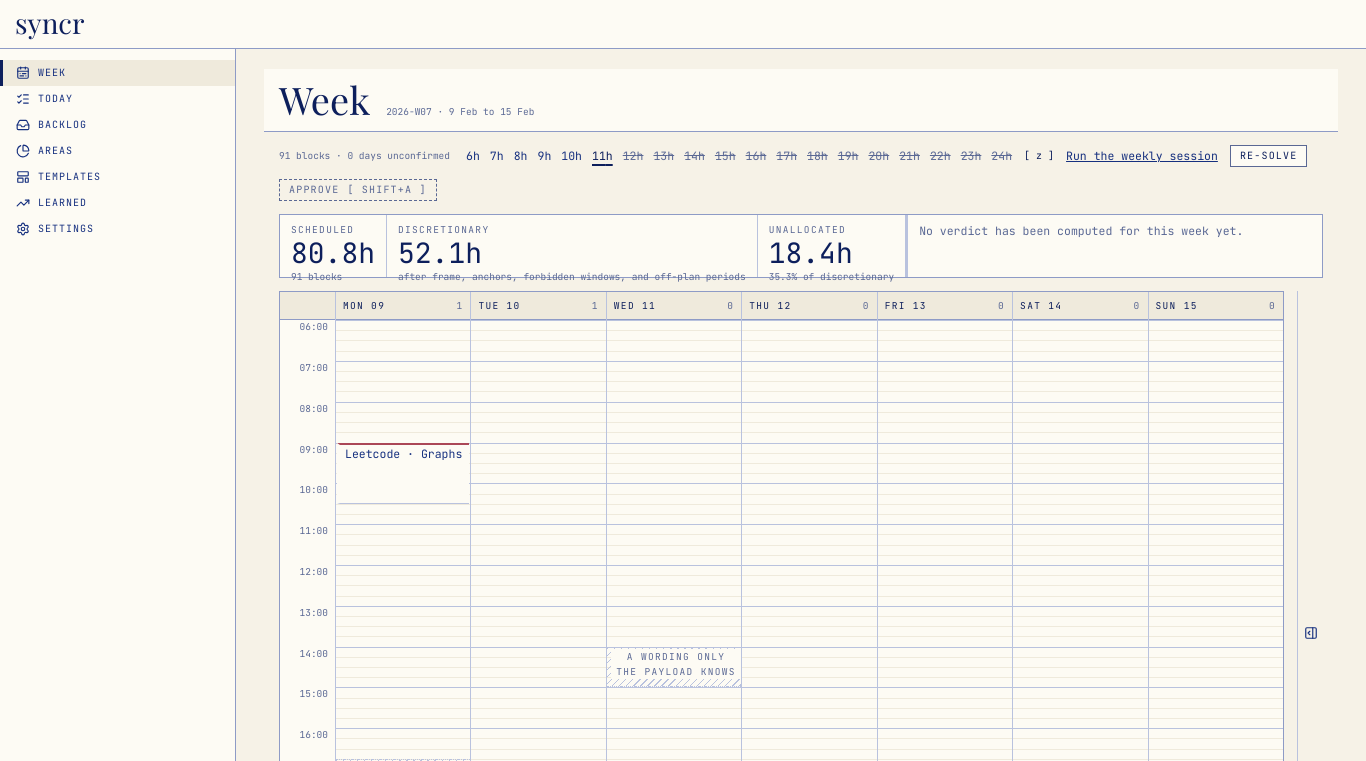
Scenario: a refused pin › reads the week again, so the optimistic placement does not outlive the refusal
This screenshot has width=1366, height=761.
Press the mouse on the button "Leetcode · Graphs" at point(403, 473), box [337,442,469,504]
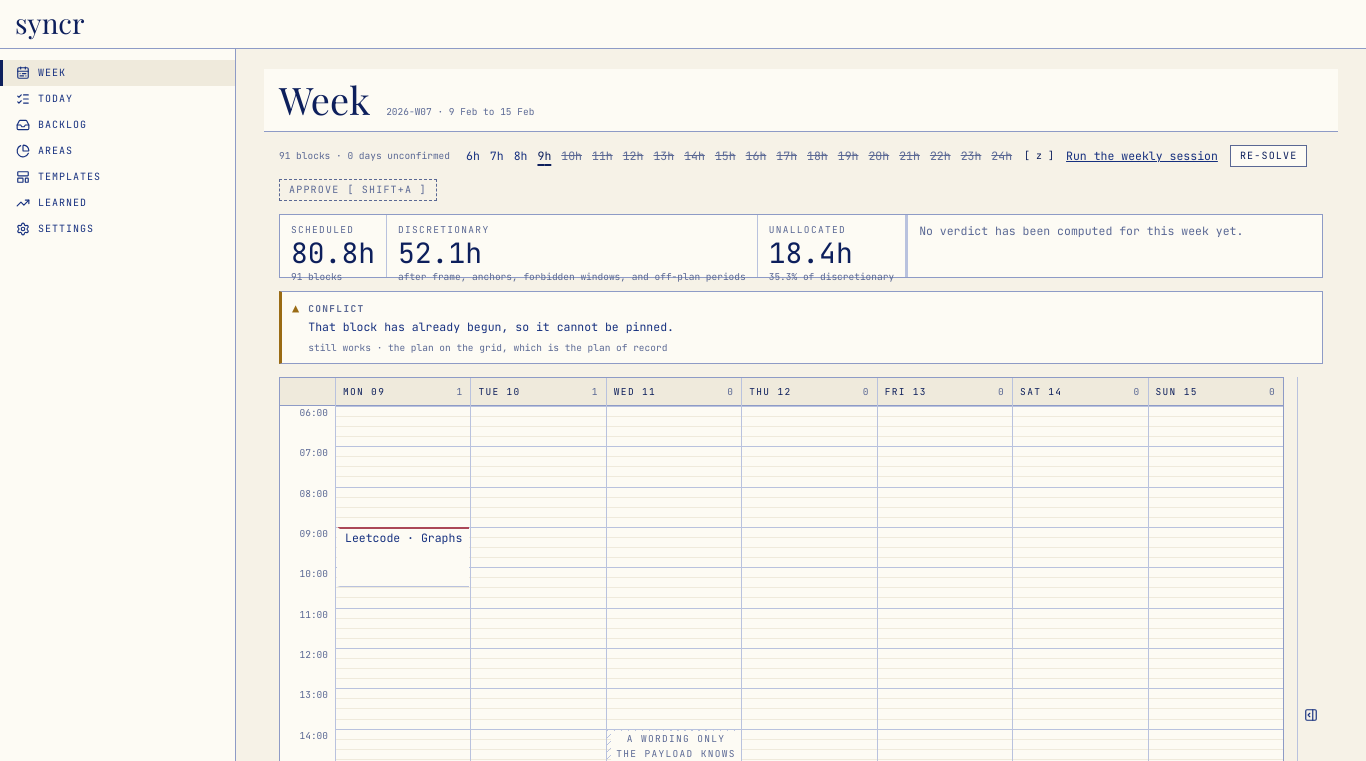
Expected: the text "That block has already begun, so it cannot be pinned." is shown, [308,319,674,334]
